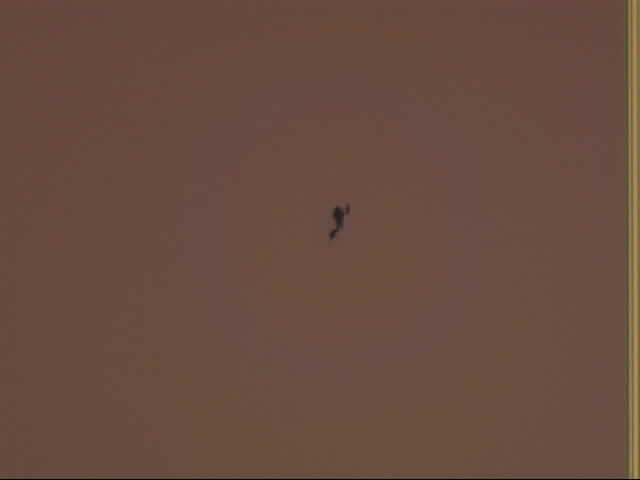PIQ PARTICLE: (322, 197, 357, 245)
